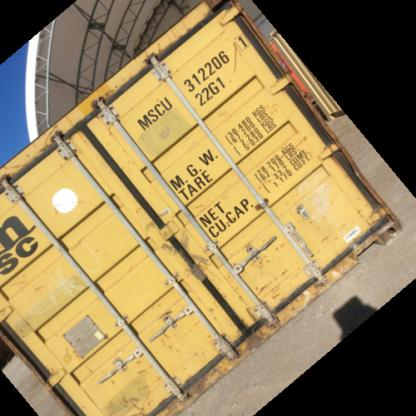Damage: (119, 348, 168, 415), (91, 83, 131, 134), (230, 315, 275, 353), (342, 154, 376, 202), (256, 268, 300, 299), (354, 203, 392, 234), (49, 193, 92, 218), (8, 272, 46, 299), (30, 126, 64, 154), (226, 34, 244, 84), (152, 119, 180, 146), (260, 101, 286, 124), (158, 331, 180, 355), (289, 132, 314, 153), (185, 315, 205, 336), (153, 309, 179, 324), (270, 235, 290, 253), (68, 236, 89, 253), (2, 158, 23, 172), (252, 247, 270, 263), (316, 231, 332, 247), (336, 216, 349, 232), (187, 350, 216, 356)
